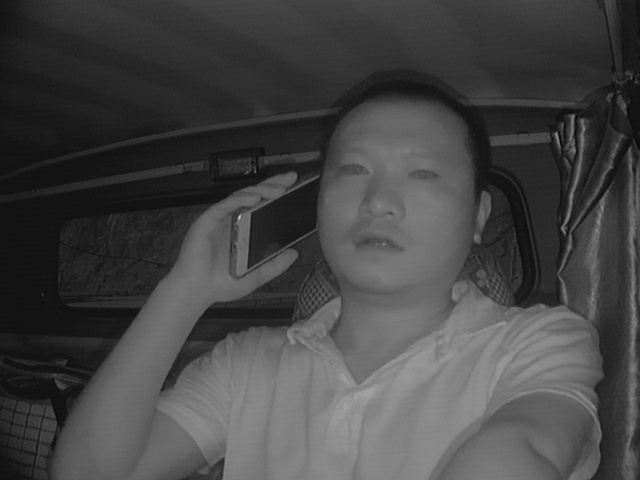hand: (179, 173, 300, 304)
